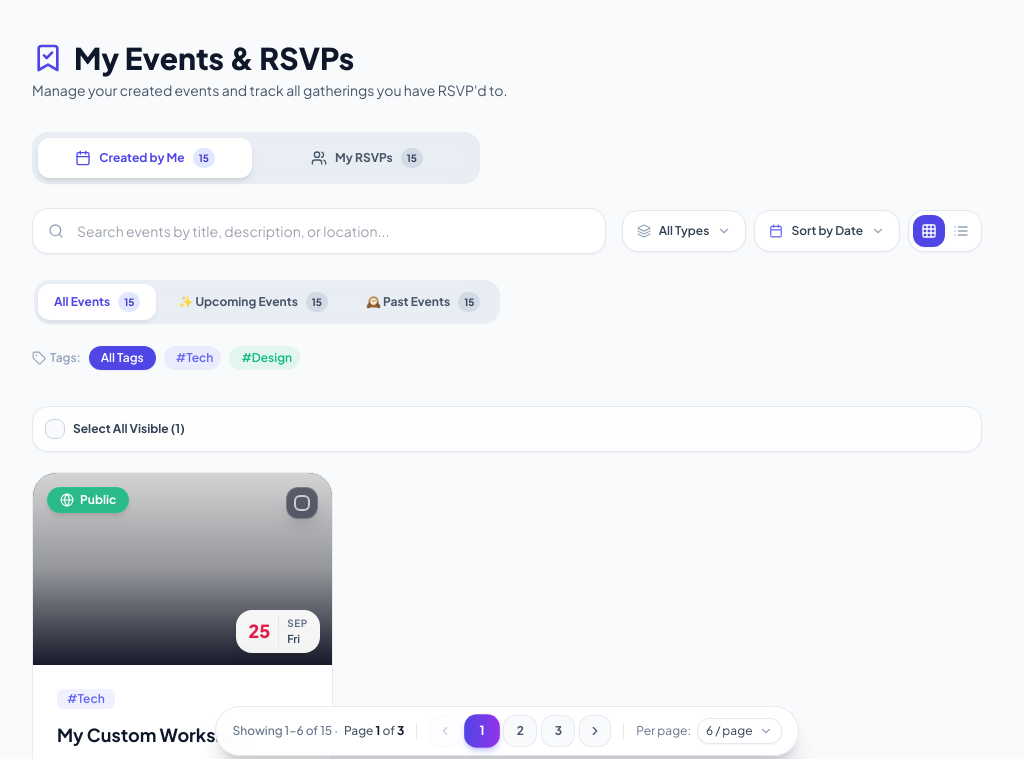
Test case: MyEventsPage Component › navigates to page 2 when clicking page 2 button on Created Events
Check: the heading "My Custom Workshop" is shown, box x1=57 y1=723 x2=250 y2=746
Note: Click page 2 button
Click the button "2": {"x": 520, "y": 731} x1=503 y1=715 x2=537 y2=747
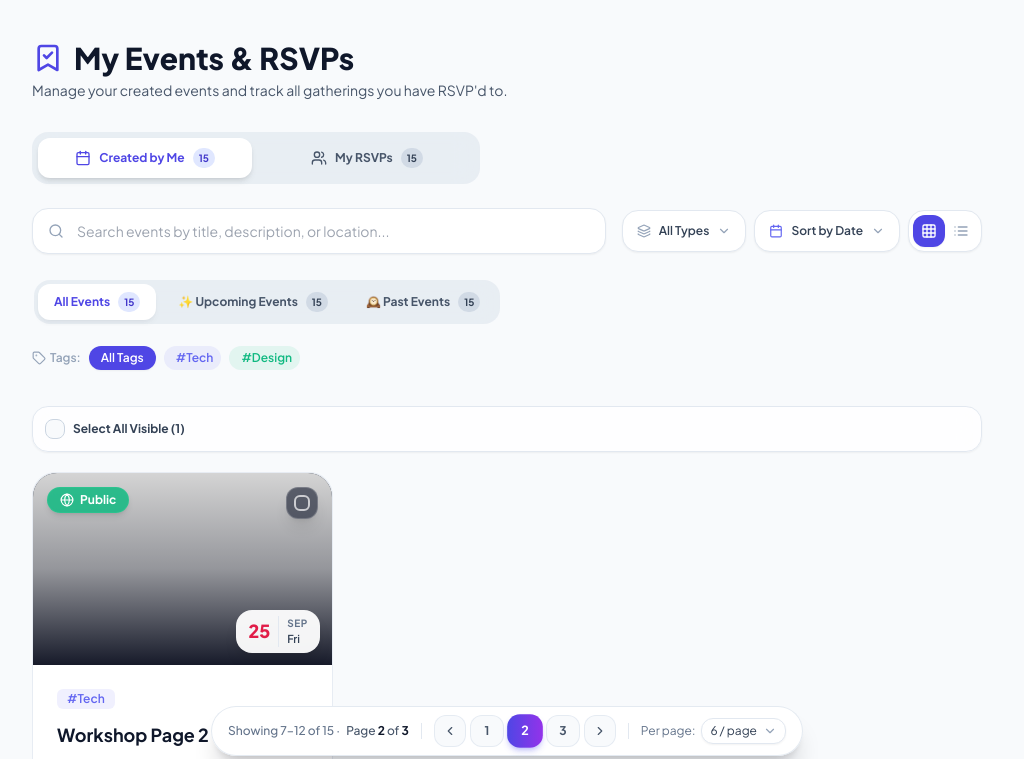
Check: the heading "Workshop Page 2" is shown, box x1=57 y1=723 x2=209 y2=746
